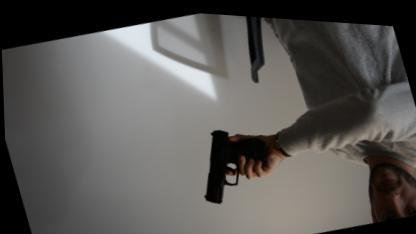pistol: (185, 114, 280, 206)
